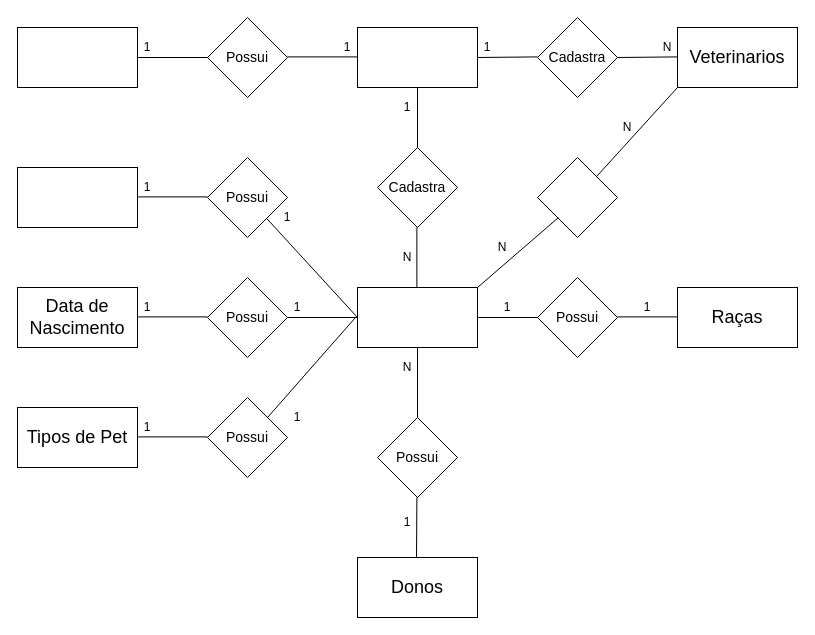
Some shapes in this 815 by 635 pixel diagram are drawn without their labels. Each missing label, with the box of its shape:
Atende: (536, 156, 618, 238)
Clínicas: (356, 26, 478, 88)
Endereços: (16, 26, 138, 88)
Nomes: (16, 166, 138, 228)
Pets: (356, 286, 478, 348)
